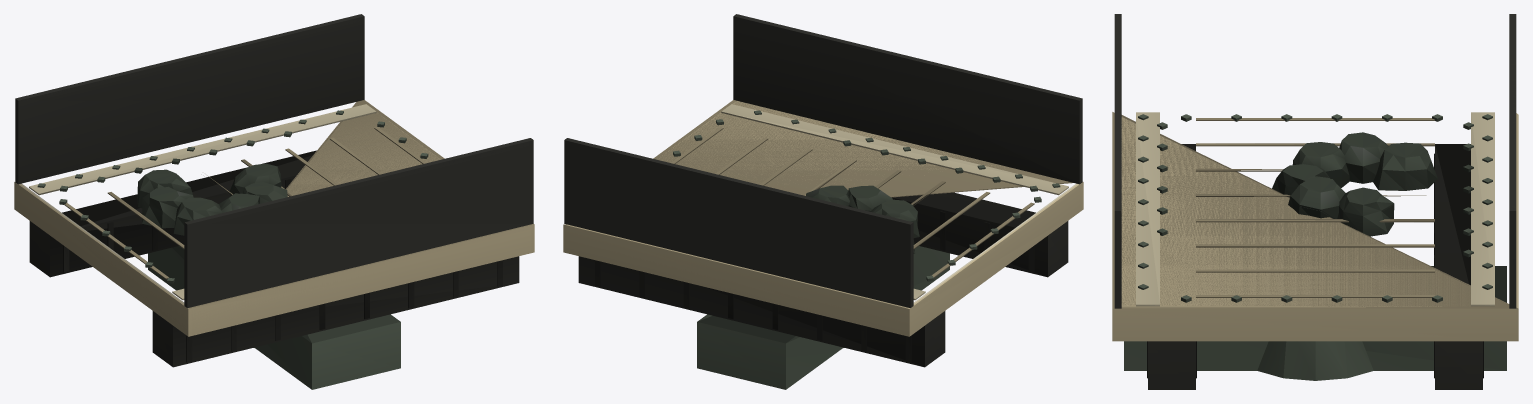
The model's file is neutral_bridge_segment_damaged.glb.
3 views of the same model, side by side, from view 1: azimuth 30°, elevation 25°; view 2: azimuth 150°, elevation 25°; view 3: azimuth 270°, elevation 25° (orthographic). The views are drawn at different scales.
Visible parts, largest first — view 1: body (×3); view 2: body (×3); view 3: body (×3).
Boxes of the visible parts, x1,y1,x2,y2 form: body (×3): (14, 14, 534, 389); body (×3): (563, 14, 1083, 389); body (×3): (1112, 14, 1518, 389).
Size of the model in its own units: 3.9 by 2.15 by 3.4.
